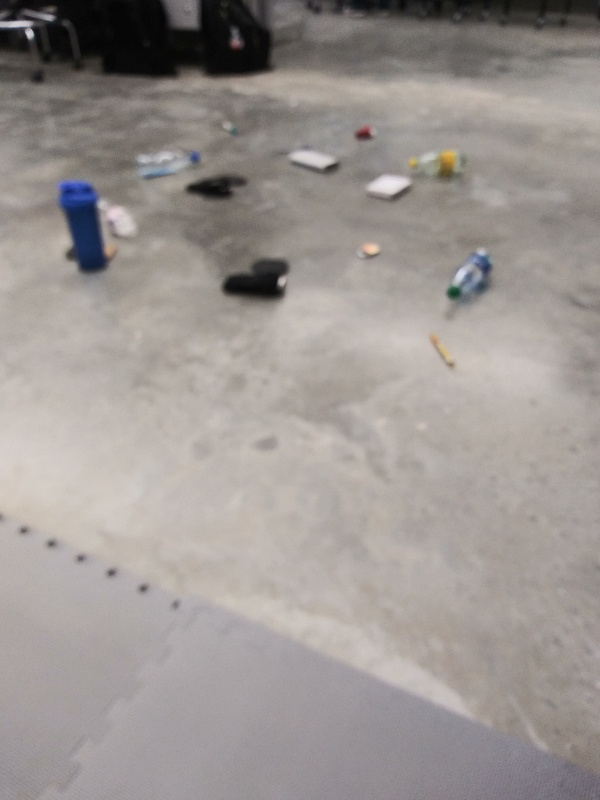bottle: (445, 243, 496, 303), (128, 147, 206, 180), (98, 192, 144, 242), (406, 148, 471, 183)
